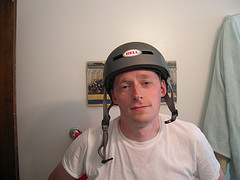helmet: (93, 40, 171, 76)
